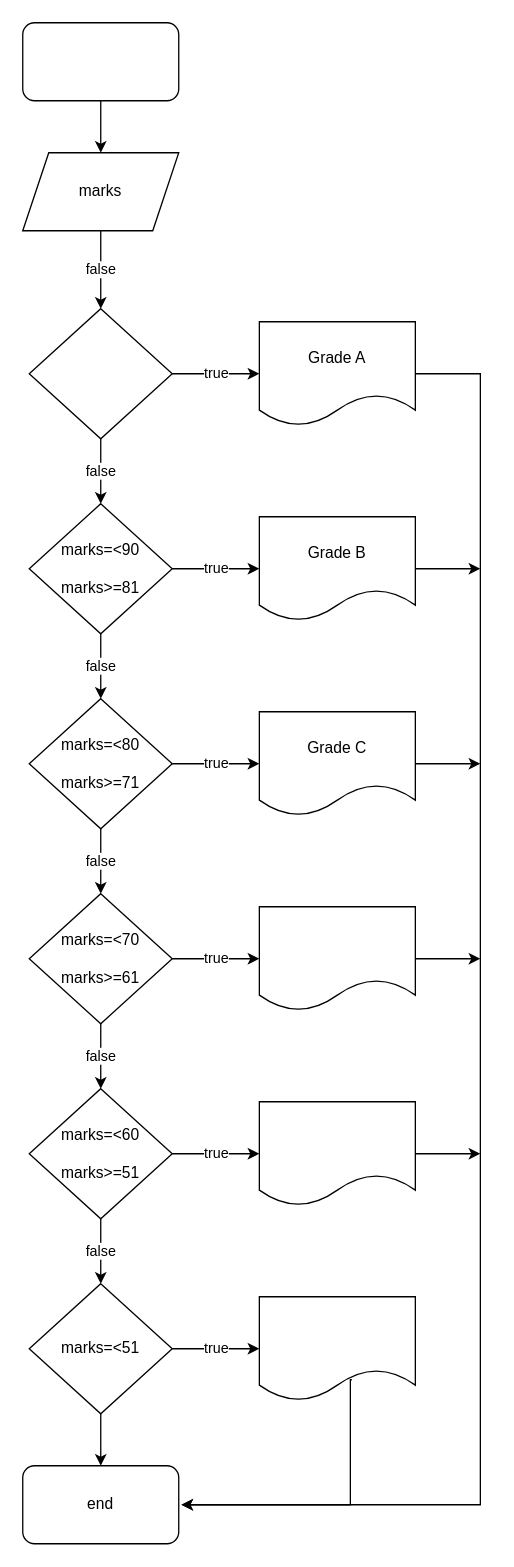
The diagram is 514 pixels wide and 1567 high, and some of its shapes have lost their labels. The shapes that lost their labels are listed below. From the top down, each one's box as (x1, y1, x2, y2) in pixels, then its label:
(21, 21, 179, 101): start
(28, 307, 172, 439): marks>=91 marks=<100
(258, 905, 415, 1011): Grade D
(258, 1100, 415, 1206): Grade E
(258, 1295, 415, 1401): Failed
